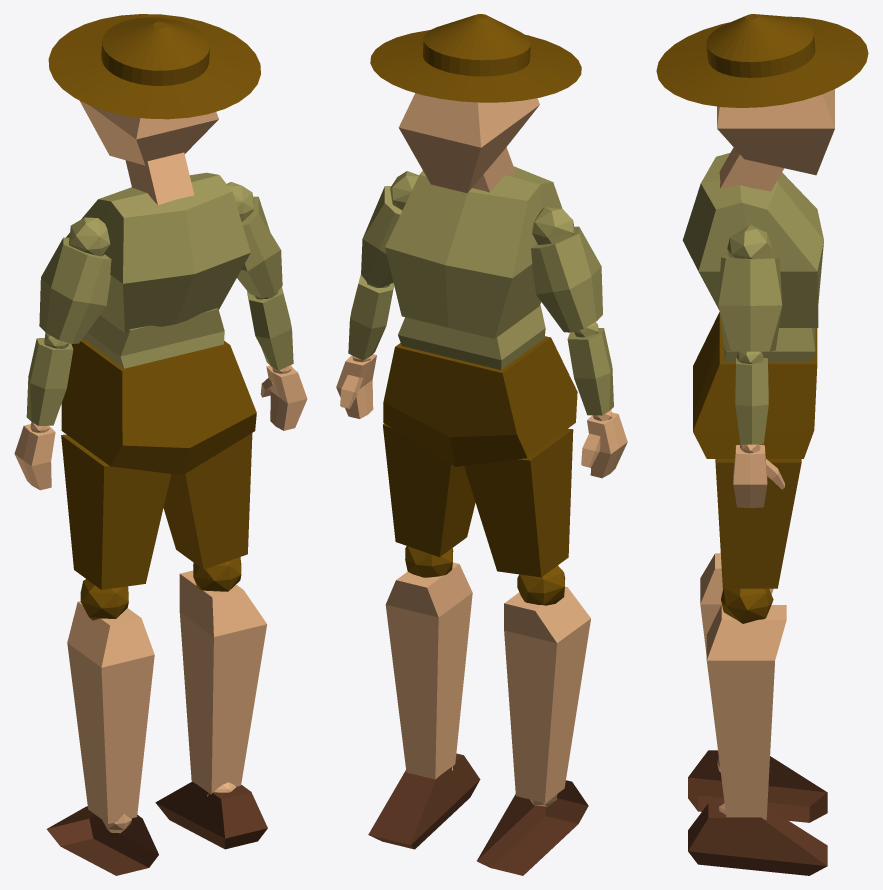
Rendered from Hoppo.fbx.
3 renders of one model, left to right at view 1: azimuth 30°, elevation 25°; view 2: azimuth 150°, elevation 25°; view 3: azimuth 270°, elevation 25°, orthographic.
Visible parts, largest first — view 1: Torso.009, Cube.140, Hut, Cube.144, Cube.142, BeinLi.009, BeinRe.009, Cube.146, Cube.143, Cube.141, Head.009, Cube.145 (+10 smaller); view 2: Cube.140, Torso.009, Cube.142, Cube.144, Hut, BeinLi.009, Head.009, BeinRe.009, Cube.146, Cube.143, Cube.145, Cube.141 (+10 smaller); view 3: Hut, Cube.140, Cube.142, Torso.009, BeinRe.009, Cube.143, Head.009, Cube.150, Cube.145, Cube.151, Cube.152, Cube.139 (+4 smaller).
Part boxes in pixels (x1,y1,x2,y2): Torso.009: (61, 338, 256, 475); Cube.140: (66, 172, 250, 333); Hut: (48, 14, 260, 119); Cube.144: (67, 601, 154, 823); Cube.142: (179, 570, 267, 794); BeinLi.009: (61, 434, 171, 589); BeinRe.009: (163, 433, 252, 569); Cube.146: (39, 237, 111, 343); Cube.143: (155, 781, 267, 849); Cube.141: (83, 308, 224, 368); Head.009: (79, 100, 218, 165); Cube.145: (46, 806, 158, 875); Cube.140: (385, 166, 562, 338); Torso.009: (383, 336, 577, 466); Cube.142: (385, 562, 472, 779); Cube.144: (504, 586, 590, 802); Hut: (370, 14, 581, 102); BeinLi.009: (464, 428, 573, 577); Head.009: (398, 93, 539, 193); BeinRe.009: (383, 423, 475, 557); Cube.146: (531, 226, 602, 332); Cube.143: (368, 753, 480, 849); Cube.145: (477, 780, 588, 875); Cube.141: (398, 304, 545, 369); Hut: (656, 14, 868, 107); Cube.140: (682, 153, 823, 327); Cube.142: (706, 605, 786, 819); Torso.009: (693, 312, 817, 458); BeinRe.009: (715, 459, 801, 588); Cube.143: (688, 803, 827, 875); Head.009: (717, 89, 834, 175); Cube.150: (718, 256, 782, 351); Cube.145: (688, 750, 827, 822); Cube.151: (735, 358, 768, 444); Cube.152: (733, 445, 767, 507); Cube.139: (719, 147, 784, 191).
Bounding box in the file's own units: 94.8 × 271 × 63.14.
